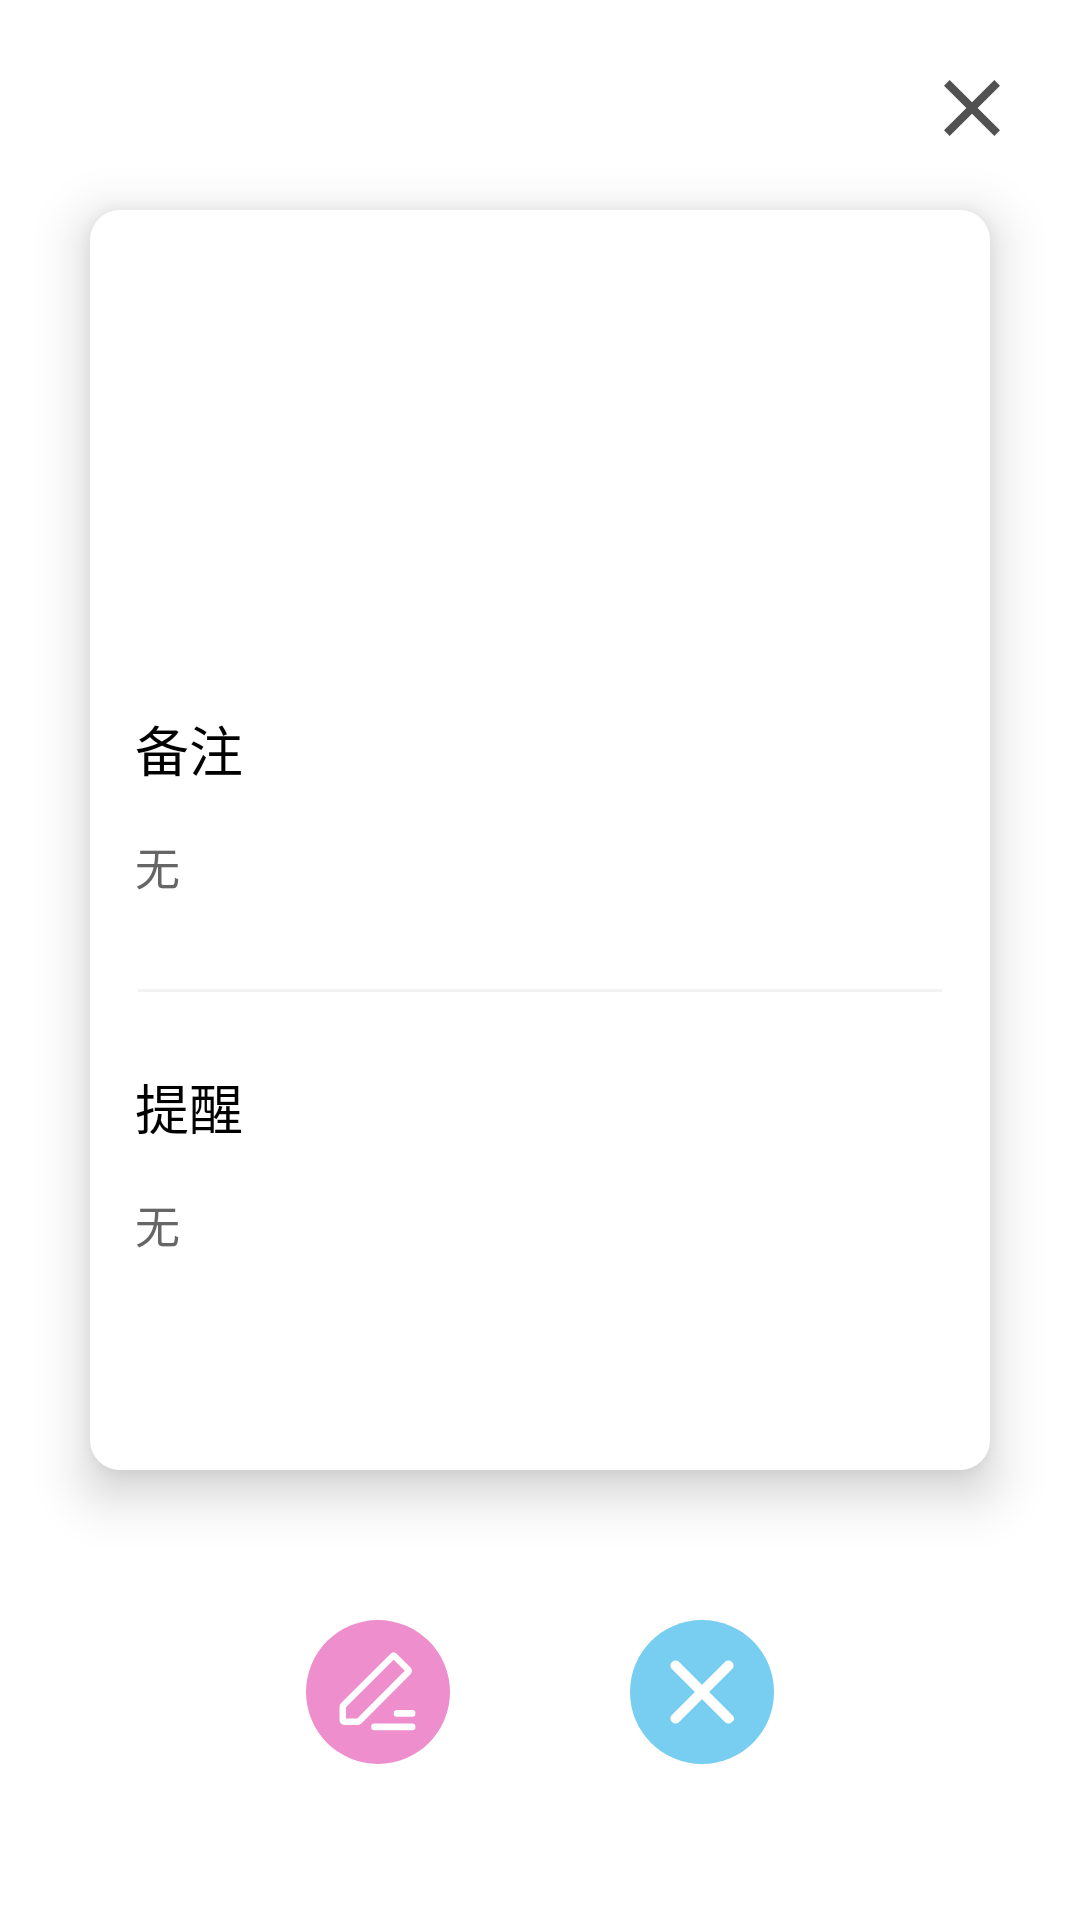

Screen size 1080 x 1920. Icon name, then its box in pixels as (x1, y1, x2, y2):
bianji: (306, 1620, 450, 1764)
close: (944, 80, 1000, 136)
shanchu: (630, 1620, 774, 1764)
